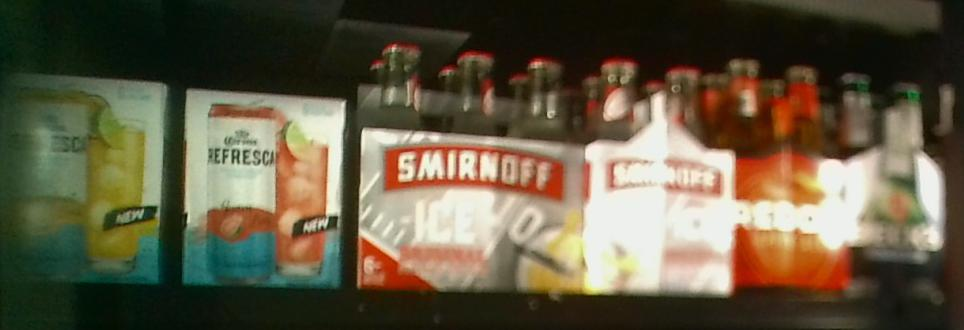bottle: (356, 42, 586, 295), (1, 76, 175, 292), (181, 85, 349, 289), (589, 59, 732, 287), (729, 56, 854, 287)
